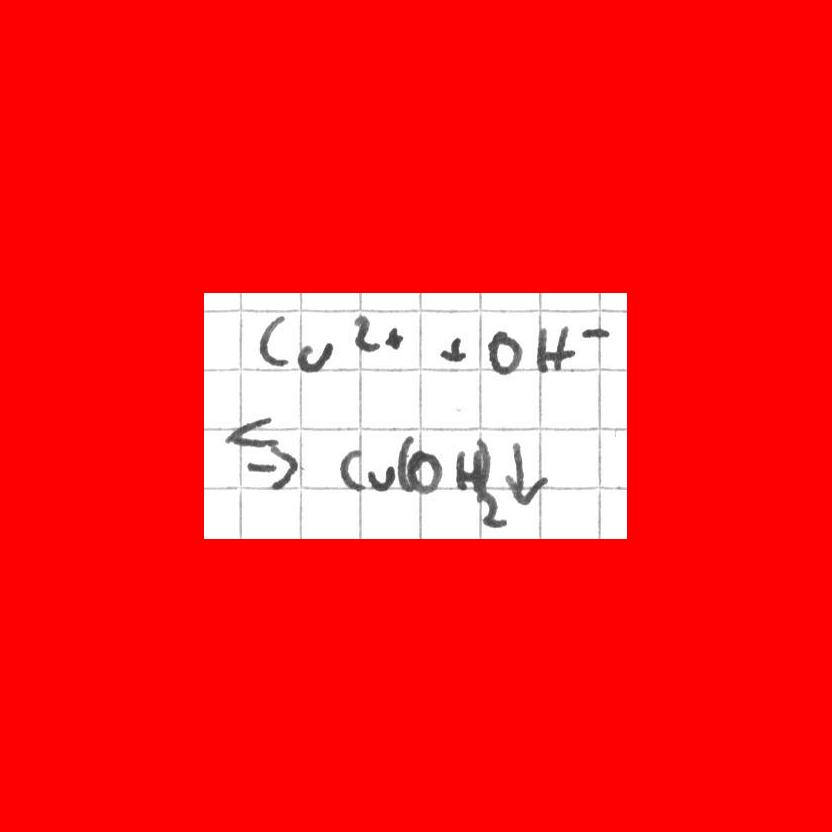Char: (240, 446, 305, 492), (506, 439, 547, 508), (483, 327, 524, 379), (257, 313, 291, 371), (219, 417, 278, 449), (536, 323, 574, 372), (406, 449, 444, 496), (449, 440, 481, 494), (472, 493, 511, 529), (296, 337, 331, 374), (351, 313, 379, 353), (393, 433, 411, 495), (338, 448, 362, 494), (437, 333, 467, 365), (365, 461, 394, 492), (477, 437, 492, 494), (384, 326, 406, 352), (580, 326, 612, 342)
